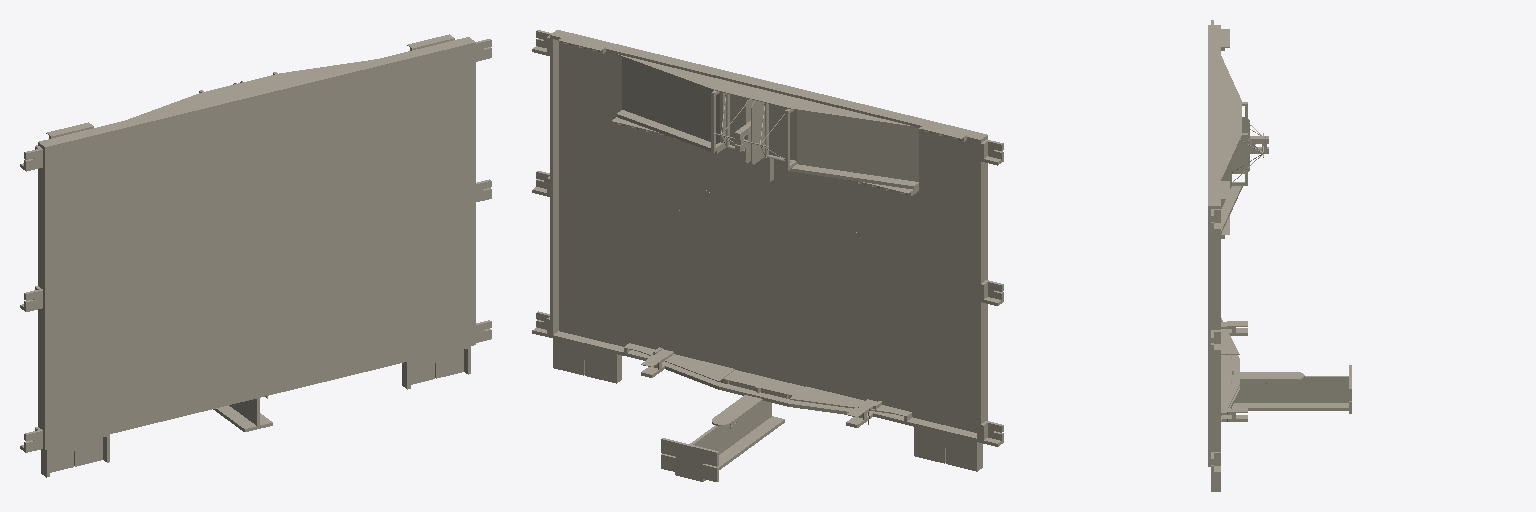
The robot description file, URDF, robot "field":
<?xml version="1.0"?>
<robot name="field">
  <material name="Grey">
    <color rgba=".99 .98 .88 1"/>
  </material>
  <material name="White">
    <color rgba="1 1 1 1"/>
  </material>

  <link
    name="table">
    <inertial>
      <origin
        xyz="1.5 1.0647 -0.0033004"
        rpy="0 0 0" />
      <mass
        value="165.19" />
      <inertia
        ixx="13.61"
        ixy="-1.3214E-14"
        ixz="-4.0492E-15"
        iyy="113.31"
        iyz="-0.4109"
        izz="126.82" />
    </inertial>
    <visual>
      <origin
        xyz="0 0 -0.015"
        rpy="0 0 0" />
      <geometry>
        <mesh
          filename="package://eurobot_sim/models/table.STL" />
      </geometry>
      <material
        name="grey">
        <color
          rgba="0.71 0.69 0.63 1" />
      </material>
    </visual>
    <!--collision>
      <origin
        xyz="0 0 0"
        rpy="0 0 0" />
      <geometry>
        <mesh
          filename="package://eurobot_sim/models/table.STL" />
      </geometry>
    </collision-->
  </link>

  <!--link name="table">
     <visual>
       <origin xyz="1.5 1.0 -0.011" rpy="0 0 0" />
       <geometry>
         <box size="3.044 2.044 0.022" />
       </geometry>
       <material name="Grey"/>
     </visual>
     <collision>
       <origin xyz="1.5 1.0 -0.01" rpy="0 0 0"/>
       <geometry>
         <box size="3.044 2.044 0.02" />
       </geometry>
     </collision>

     <visual>
       <origin xyz="-0.011 1.0 0.035" rpy="0 0 0" />
       <geometry>
         <box size="0.022 2.044 0.070" />
       </geometry>
       <material name="Grey"/>
     </visual>
     <collision>
       <origin xyz="-0.011 1.0 0.035" rpy="0 0 0"/>
       <geometry>
         <box size="0.022 2.044 0.070" />
       </geometry>
     </collision>

     <visual>
       <origin xyz="3.011 1.0 0.035" rpy="0 0 0" />
       <geometry>
         <box size="0.022 2.044 0.070" />
       </geometry>
       <material name="Grey"/>
     </visual>
     <collision>
       <origin xyz="3.011 1.0 0.035" rpy="0 0 0"/>
       <geometry>
         <box size="0.022 2.044 0.070" />
       </geometry>
     </collision>

     <visual>
       <origin xyz="1.5 -0.011 0.035" rpy="0 0 0" />
       <geometry>
         <box size="3.0 0.022 0.070" />
       </geometry>
       <material name="Grey"/>
     </visual>
     <collision>
       <origin xyz="1.5 -0.011 0.035" rpy="0 0 0"/>
       <geometry>
         <box size="3.0 0.022 0.070" />
       </geometry>
     </collision>

     <visual>
       <origin xyz="1.5 2.011 0.035" rpy="0 0 0" />
       <geometry>
         <box size="3.0 0.022 0.070" />
       </geometry>
       <material name="Grey"/>
     </visual>
     <collision>
       <origin xyz="1.5 2.011 0.035" rpy="0 0 0"/>
       <geometry>
         <box size="3.0 0.022 0.070" />
       </geometry>
     </collision>

   </link-->

   <link name="beacons">
     <visual>
       <origin xyz="-.094 .05 .4" rpy="0 0 0" />
       <geometry>
         <cylinder length="0.1" radius="0.04"/>
       </geometry>
       <material name="White"/>
     </visual>
     <collision>
       <origin xyz="-.094 .05 .4" rpy="0 0 0"/>
       <geometry>
         <cylinder length="0.1" radius="0.04"/>
       </geometry>
     </collision>

     <visual>
       <origin xyz="-0.092 .05 .175" rpy="0 0 0" />
       <geometry>
         <box size=".1 .1 .35" />
       </geometry>
       <material name="White"/>
     </visual>


     <visual>
       <origin xyz="-.094 1.95 .4" rpy="0 0 0" />
       <geometry>
         <cylinder length="0.1" radius="0.04"/>
       </geometry>
       <material name="White"/>
     </visual>
     <collision>
       <origin xyz="-.094 1.95 .4" rpy="0 0 0"/>
       <geometry>
         <cylinder length="0.1" radius="0.04"/>
       </geometry>
     </collision>

     <visual>
       <origin xyz="-0.092 1.95 .175" rpy="0 0 0" />
       <geometry>
         <box size=".1 .1 .35" />
       </geometry>
       <material name="White"/>
     </visual>


     <visual>
       <origin xyz="3.094 1 .4" rpy="0 0 0" />
       <geometry>
         <cylinder length="0.1" radius="0.04"/>
       </geometry>
       <material name="White"/>
     </visual>
     <collision>
       <origin xyz="3.094 .5 .4" rpy="0 0 0"/>
       <geometry>
         <cylinder length="0.1" radius="0.04"/>
       </geometry>
     </collision>

     <visual>
       <origin xyz="3.092 1 .175" rpy="0 0 0" />
       <geometry>
         <box size=".1 .1 .35" />
       </geometry>
       <material name="White"/>
     </visual>

    </link>

    <joint name="table_to_beacons" type="fixed">
      <parent link="table"/>
      <child link="beacons"/>
    </joint>
</robot>

--- Render facts (derived) ---
3 views of the same robot in one strip: view 1: azimuth 30°, elevation 25°; view 2: azimuth 150°, elevation 25°; view 3: azimuth 270°, elevation 25° (orthographic).
Model field with 2 links and 1 joints (1 fixed), rooted at table, posed every joint at zero.
Visible links, largest first — view 1: table; view 2: table; view 3: table.
Link boxes in pixels (left/top/right/bottom): table: left=20, top=34, right=491, bottom=477; table: left=532, top=30, right=1003, bottom=481; table: left=1208, top=20, right=1351, bottom=491.
Bounding box of the posed robot: 3288 × 1022 × 2279 m (x, y, z).
Meshes: 1 distinct files referenced, 1 mesh visuals loaded (1 binary STL).